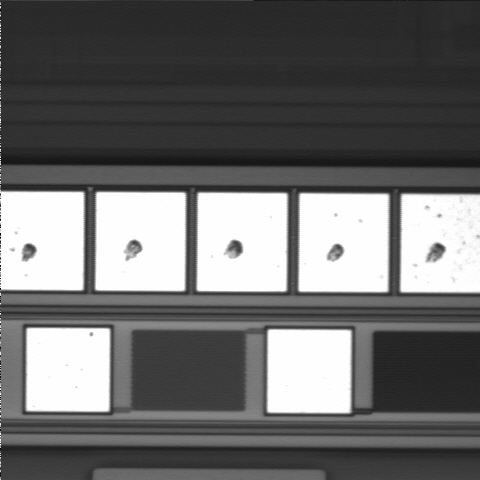pad: (197, 193, 287, 291), (96, 192, 185, 291), (299, 194, 388, 292), (26, 328, 110, 411), (267, 330, 351, 413)
